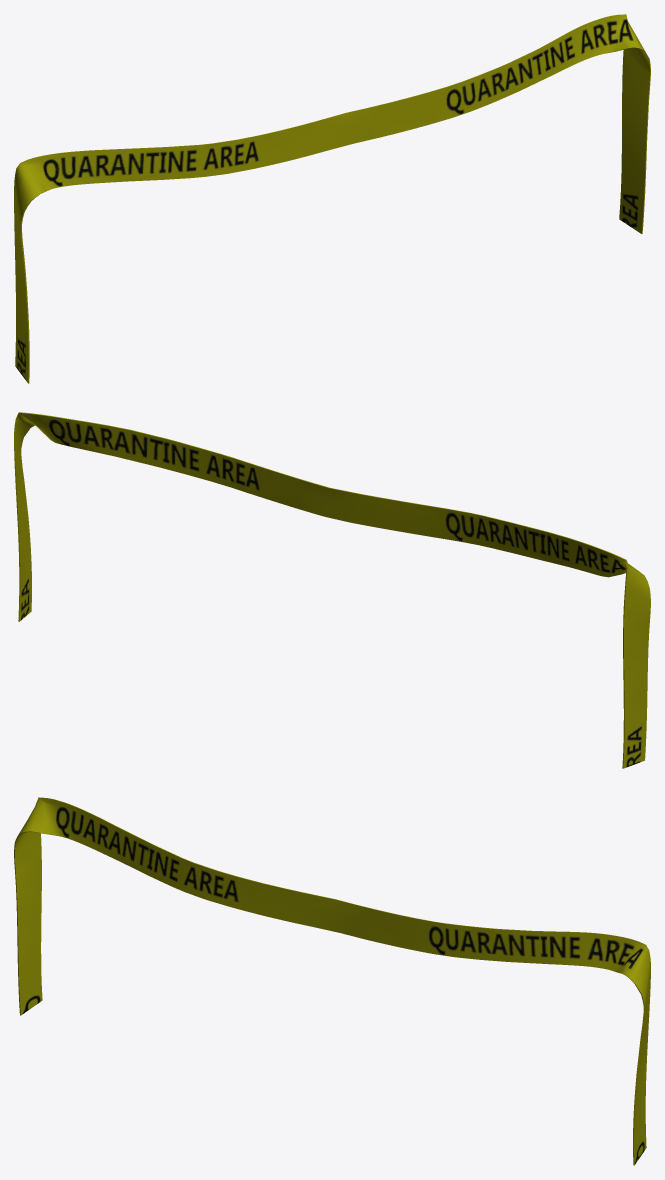
The model's file is SM_Tape02.glb.
3 renders of one model, top to bottom at view 1: azimuth 30°, elevation 25°; view 2: azimuth 150°, elevation 25°; view 3: azimuth 330°, elevation 25°, orthographic.
Visible parts, largest first — view 1: SM_Tape02; view 2: SM_Tape02; view 3: SM_Tape02.
Part boxes in pixels (left/top/right/bottom): SM_Tape02: left=14, top=14, right=650, bottom=383; SM_Tape02: left=14, top=412, right=650, bottom=768; SM_Tape02: left=14, top=797, right=650, bottom=1165.
Size of the model in its own units: 1.58 by 0.5096 by 0.1061.
1 material, 1 textured.
